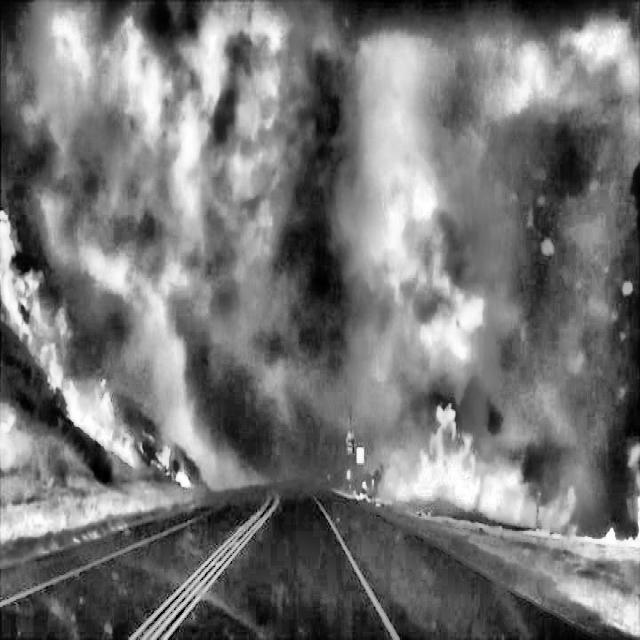fire: (2, 201, 168, 536), (381, 374, 587, 549)
